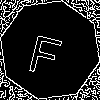F: (25, 25, 67, 78)
